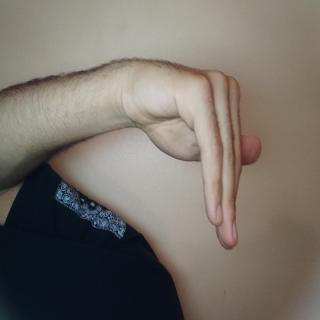KHAA: (38, 70, 190, 288)
